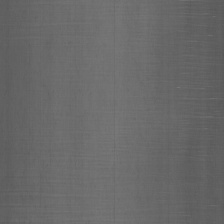waist_folding: (170, 18, 212, 181)
